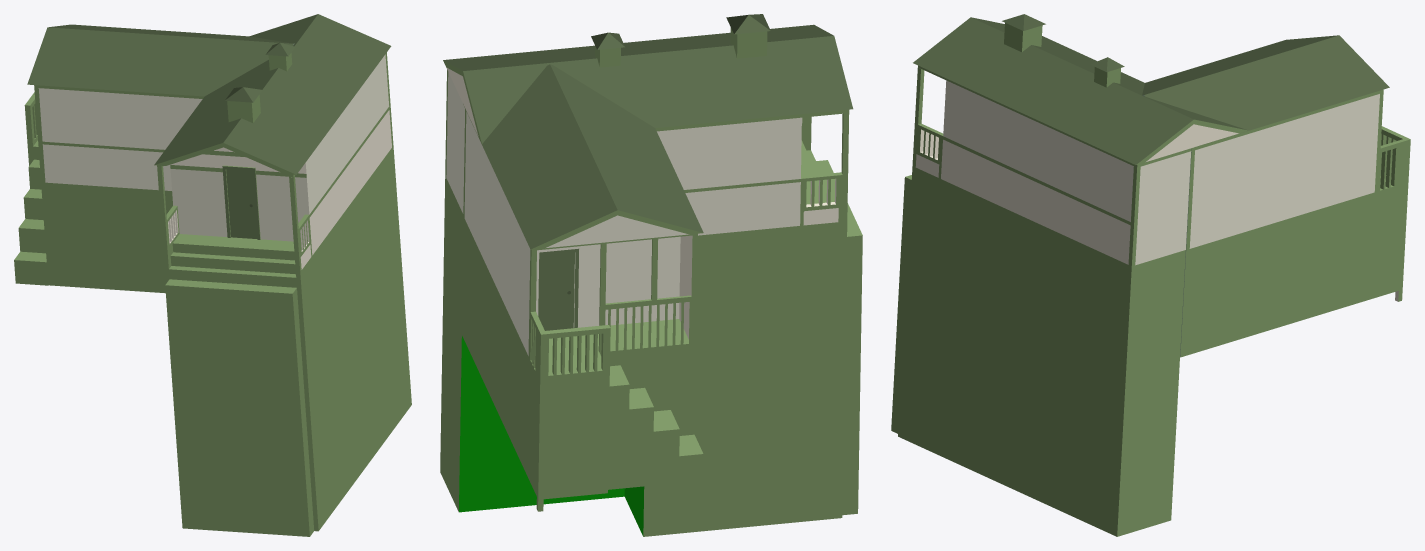
The model's file is KidsClub_tilted.gltf.
3 renders of one model, left to right at view 1: azimuth 30°, elevation 25°; view 2: azimuth 150°, elevation 25°; view 3: azimuth 270°, elevation 25°, orthographic. The views are drawn at different scales.
Visible parts, largest first — view 1: Mesh10 KC1 Model, Mesh11 KC1 Model; view 2: Mesh10 KC1 Model, Mesh4 Group2 KC1 Model, Mesh11 KC1 Model, Mesh3 Group2 KC1 Model, Mesh8 Group3 KC1 Model; view 3: Mesh10 KC1 Model, Mesh11 KC1 Model.
Part boxes in pixels (x1=…): Mesh10 KC1 Model: x1=14, y1=14, x2=411, y2=536; Mesh11 KC1 Model: x1=227, y1=94, x2=260, y2=122; Mesh10 KC1 Model: x1=440, y1=24, x2=862, y2=536; Mesh4 Group2 KC1 Model: x1=541, y1=252, x2=574, y2=330; Mesh11 KC1 Model: x1=730, y1=27, x2=767, y2=58; Mesh3 Group2 KC1 Model: x1=538, y1=248, x2=578, y2=327; Mesh8 Group3 KC1 Model: x1=726, y1=14, x2=770, y2=34; Mesh10 KC1 Model: x1=891, y1=17, x2=1410, y2=536; Mesh11 KC1 Model: x1=1004, y1=23, x2=1042, y2=51.
Size of the model in its own units: 1562 by 1986 by 2204.
